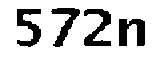2: (80, 6, 112, 50)
5: (12, 5, 41, 53)
7: (47, 5, 79, 46)
n: (115, 14, 149, 53)
